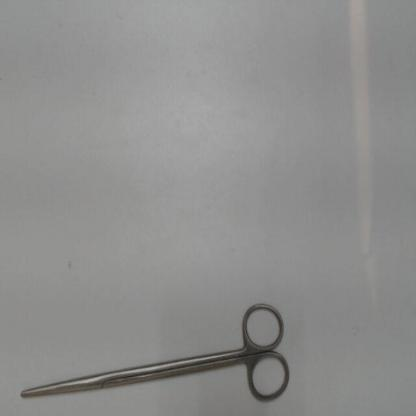9 Metzenbaum Scissors: (18, 294, 296, 408)
